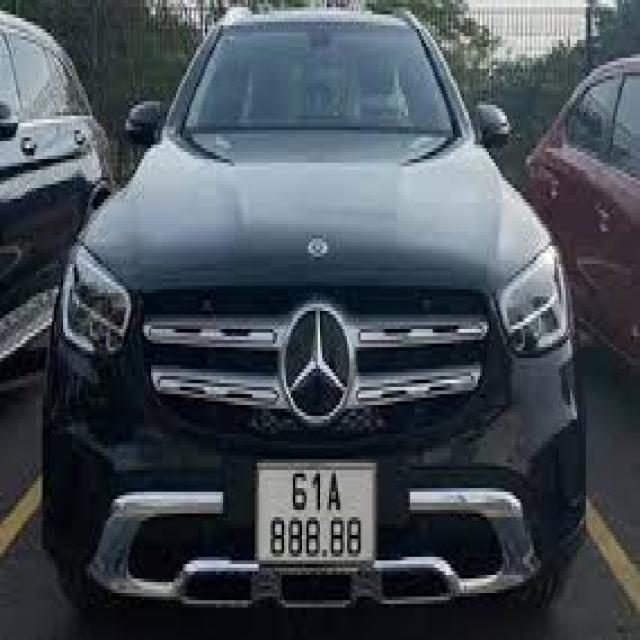bien_so: (252, 442, 388, 587)
